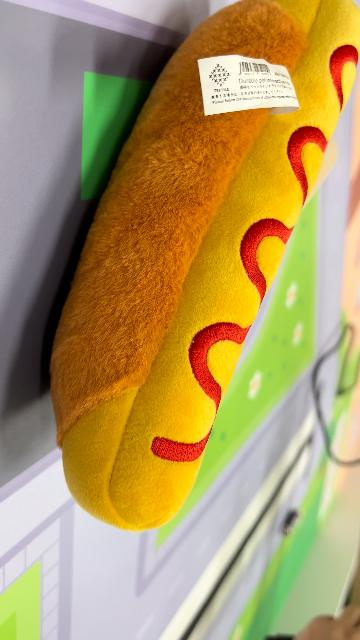hotdog: (48, 2, 358, 534)
